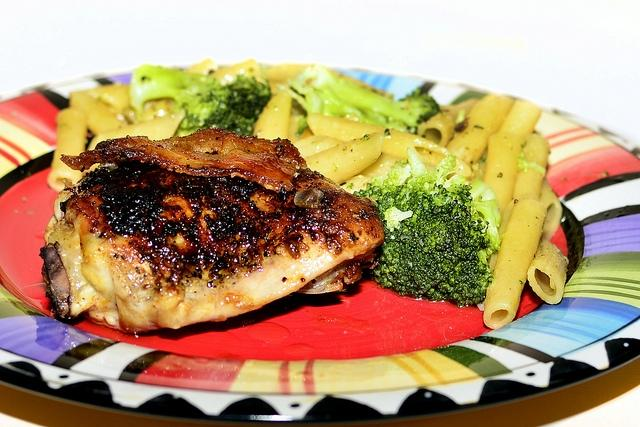broccoli: (352, 155, 500, 306), (130, 66, 274, 138), (326, 67, 440, 135)
